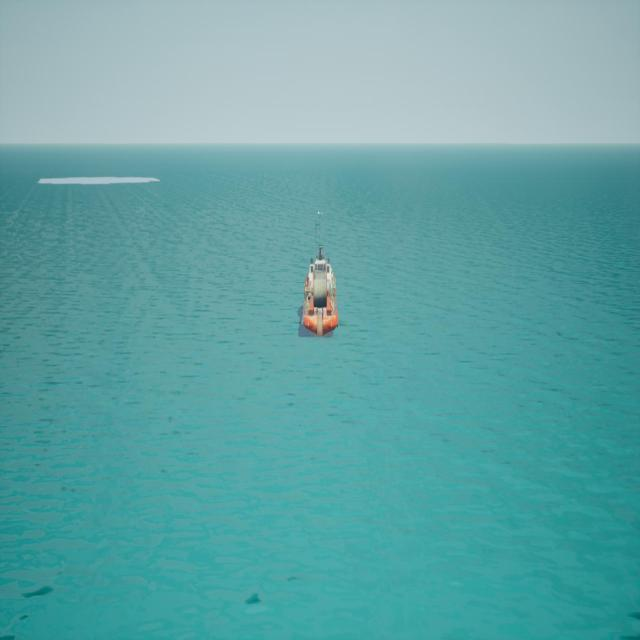tug boat: (302, 229, 339, 341)
